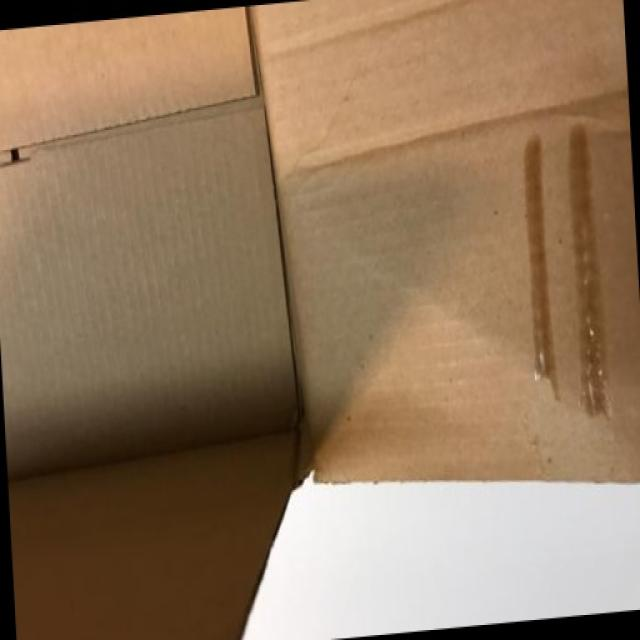carton: (112, 28, 480, 542)
